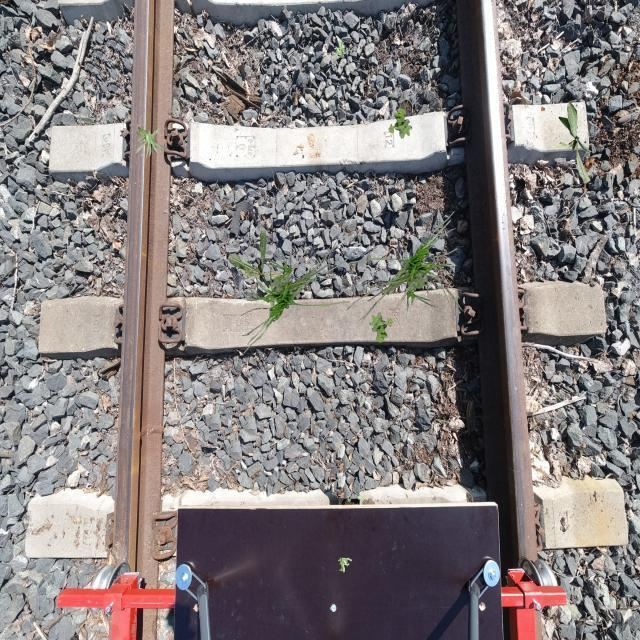Plant: (233, 231, 352, 354), (346, 211, 464, 334), (227, 229, 291, 313), (552, 101, 592, 184), (135, 126, 168, 160), (370, 313, 394, 344), (389, 108, 413, 138), (332, 40, 346, 56), (338, 557, 352, 572)
